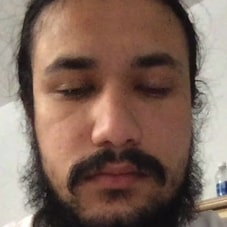drowsy: (35, 39, 186, 212)
